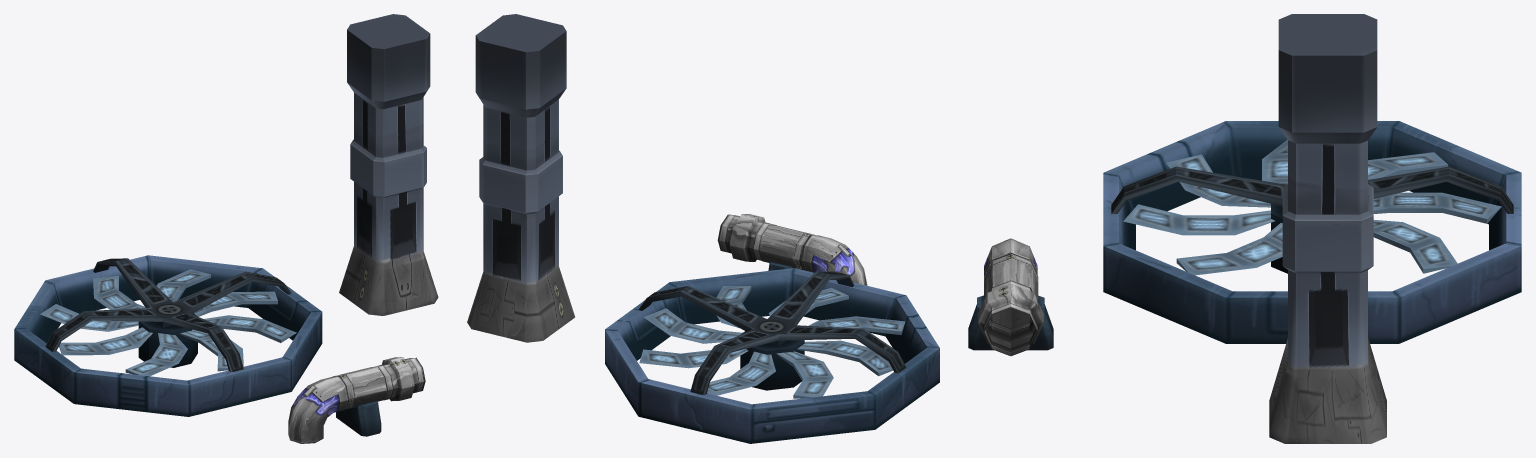
The model's file is props_01.FBX.
The picture shows the model from 3 angles, left to right: view 1: azimuth 30°, elevation 25°; view 2: azimuth 150°, elevation 25°; view 3: azimuth 270°, elevation 25°; orthographic projection. The views are drawn at different scales.
Parts seen in each view (by area): view 1: FAN005, pillar017, rotor005, Line002, Object002, Object001, Box001; view 2: FAN005, pillar017, rotor005, Line002, Object002, Object001; view 3: pillar017, FAN005, rotor005, Object002, Object001, Box001, Line002.
Part boxes in pixels (<box>): FAN005: <box>14,255,322,416</box>; pillar017: <box>339,14,438,315</box>; rotor005: <box>40,269,296,376</box>; Line002: <box>288,376,348,443</box>; Object002: <box>374,357,425,401</box>; Object001: <box>333,367,386,409</box>; Box001: <box>336,400,381,436</box>; FAN005: <box>605,268,939,443</box>; pillar017: <box>467,14,574,342</box>; rotor005: <box>639,286,905,398</box>; Line002: <box>801,235,867,285</box>; Object002: <box>717,214,776,261</box>; Object001: <box>759,225,815,270</box>; pillar017: <box>1269,14,1386,443</box>; FAN005: <box>1103,121,1521,343</box>; rotor005: <box>1123,140,1501,275</box>; Object002: <box>978,280,1043,356</box>; Object001: <box>985,253,1038,328</box>; Box001: <box>968,295,1053,350</box>; Line002: <box>984,238,1037,295</box>.
Size of the model in its own units: 1528 by 1060 by 1306.
